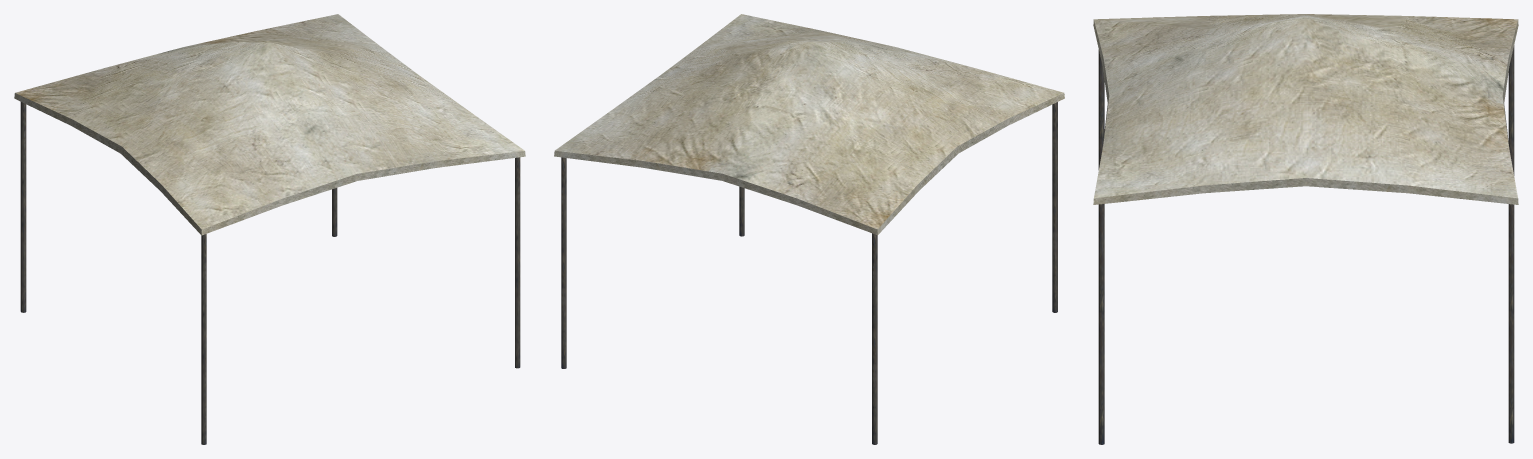
File: shopShed.fbx
3 renders of one model, left to right at view 1: azimuth 30°, elevation 25°; view 2: azimuth 150°, elevation 25°; view 3: azimuth 270°, elevation 25°, orthographic. The views are drawn at different scales.
Parts seen in each view (by area): view 1: shed4; view 2: shed4; view 3: shed4.
Part boxes in pixels (left/top/right/bottom): shed4: left=14, top=14, right=525, bottom=444; shed4: left=554, top=14, right=1064, bottom=444; shed4: left=1093, top=14, right=1518, bottom=444.
Bounding box in the file's own units: 12.33 × 10.82 × 12.35.
Materials: 1 (1 with a texture image).
